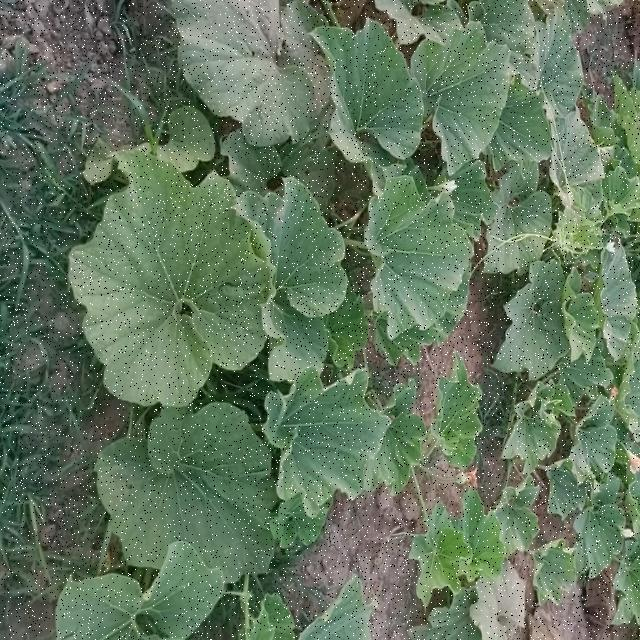plant: (58, 0, 640, 638), (301, 578, 372, 638)
